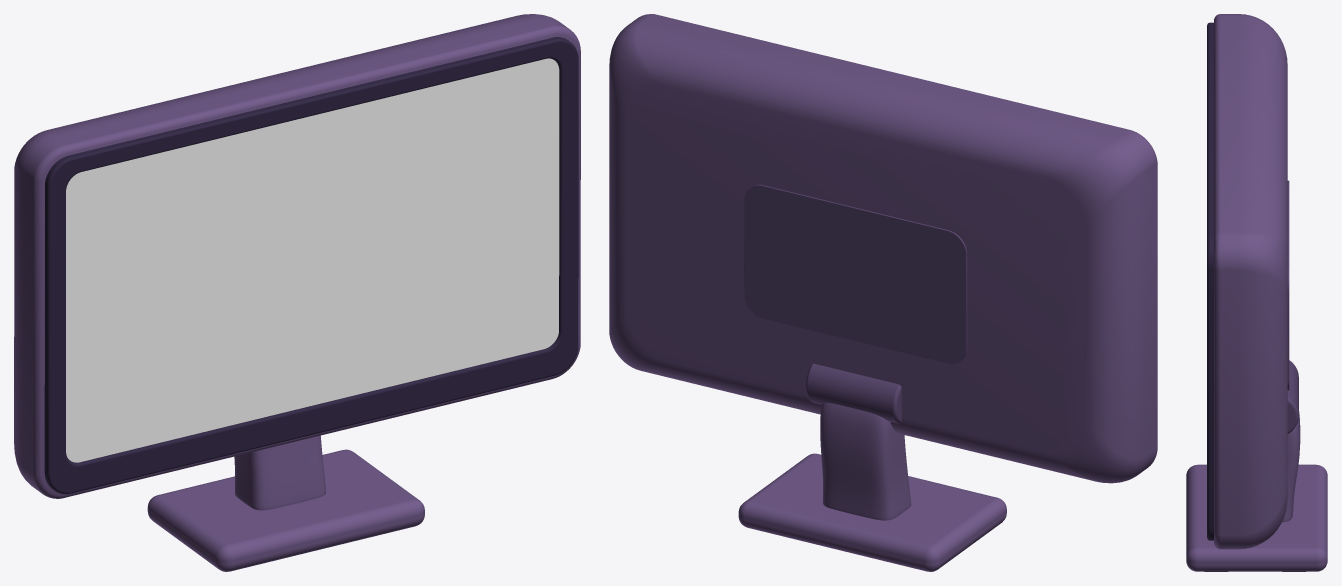
The model's file is monitor.glb.
3 views of the same model, side by side, from view 1: azimuth 30°, elevation 25°; view 2: azimuth 150°, elevation 25°; view 3: azimuth 270°, elevation 25° (orthographic). The views are drawn at different scales.
Parts seen in each view (by area): view 1: Blank glass display_export, Chunky rounded bezel with recessed opening_export, Continuous rounded enclosure_export, Stable rounded rectangular foot_export, Short rounded support stem_export; view 2: Continuous rounded enclosure_export, Simple inset rear service panel_export, Stable rounded rectangular foot_export, Short rounded support stem_export, Rear tilt joint_export; view 3: Continuous rounded enclosure_export, Stable rounded rectangular foot_export, Chunky rounded bezel with recessed opening_export, Short rounded support stem_export, Rear tilt joint_export, Simple inset rear service panel_export.
Boxes of the visible parts, x1=… form: Blank glass display_export: x1=66, y1=58, x2=559, y2=462; Chunky rounded bezel with recessed opening_export: x1=44, y1=37, x2=578, y2=494; Continuous rounded enclosure_export: x1=14, y1=14, x2=580, y2=498; Stable rounded rectangular foot_export: x1=147, y1=449, x2=424, y2=571; Short rounded support stem_export: x1=234, y1=435, x2=325, y2=510; Continuous rounded enclosure_export: x1=609, y1=14, x2=1157, y2=483; Simple inset rear service panel_export: x1=744, y1=184, x2=967, y2=363; Stable rounded rectangular foot_export: x1=738, y1=453, x2=1006, y2=571; Short rounded support stem_export: x1=820, y1=402, x2=911, y2=520; Rear tilt joint_export: x1=806, y1=363, x2=901, y2=423; Continuous rounded enclosure_export: x1=1214, y1=14, x2=1287, y2=549; Stable rounded rectangular foot_export: x1=1186, y1=464, x2=1327, y2=571; Chunky rounded bezel with recessed opening_export: x1=1207, y1=22, x2=1213, y2=540; Short rounded support stem_export: x1=1282, y1=411, x2=1300, y2=522; Rear tilt joint_export: x1=1287, y1=360, x2=1298, y2=433; Simple inset rear service panel_export: x1=1287, y1=180, x2=1289, y2=390.
Size of the model in its own units: 0.5 by 0.4 by 0.125.
